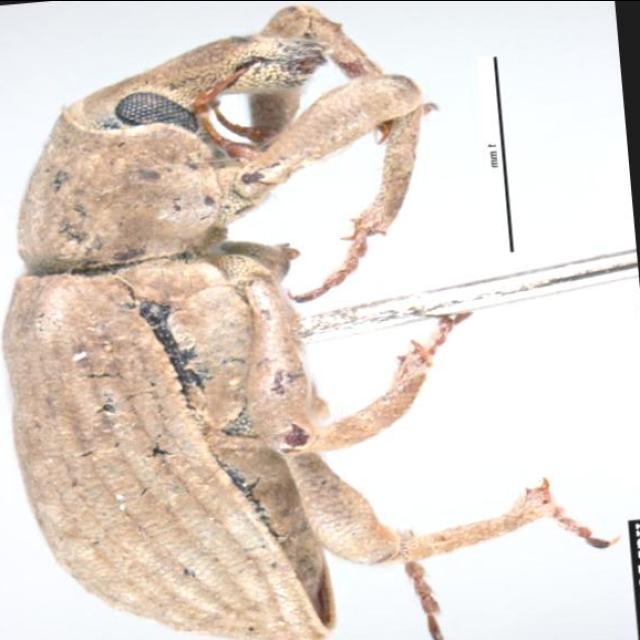ricebug: (3, 6, 606, 640)
